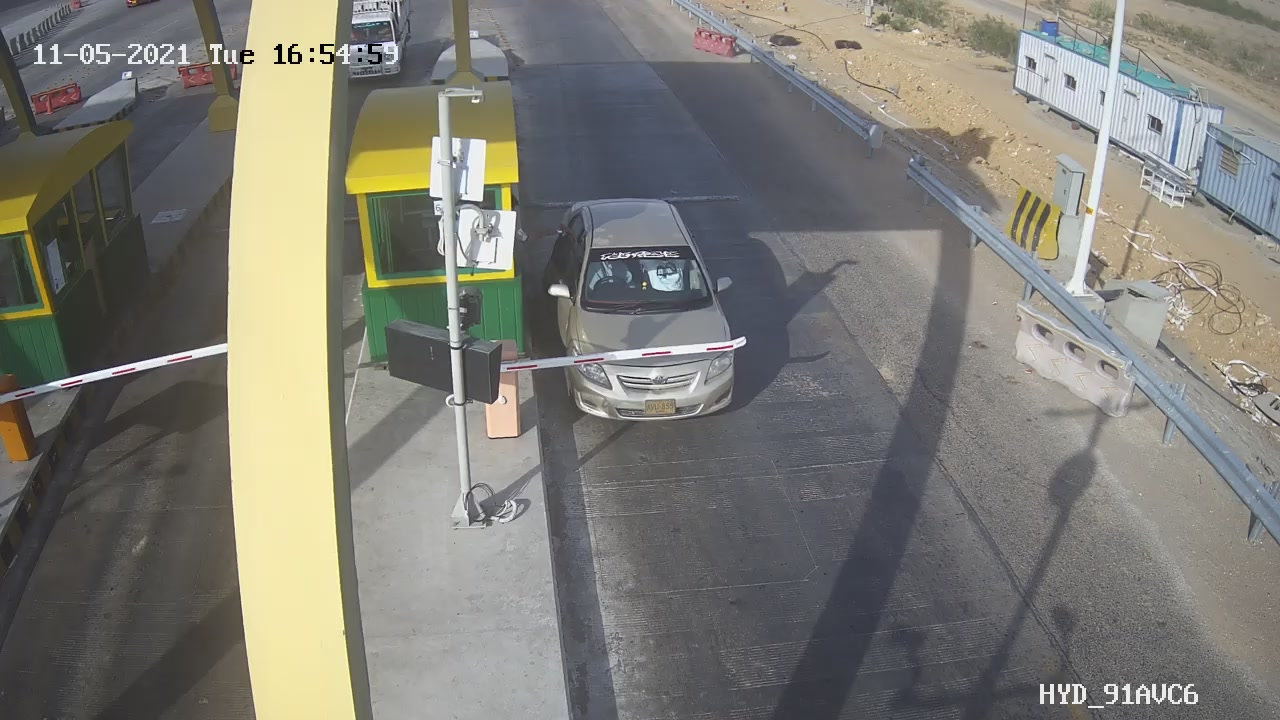F1: (526, 185, 772, 453)
